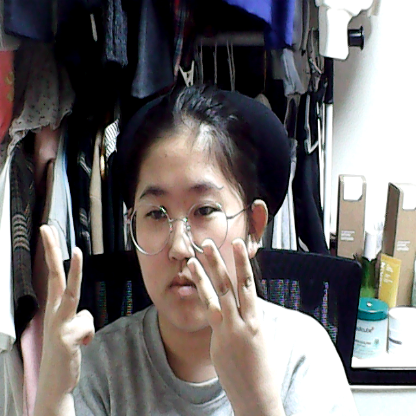Finger_3: (179, 233, 274, 387), (31, 200, 111, 381)
